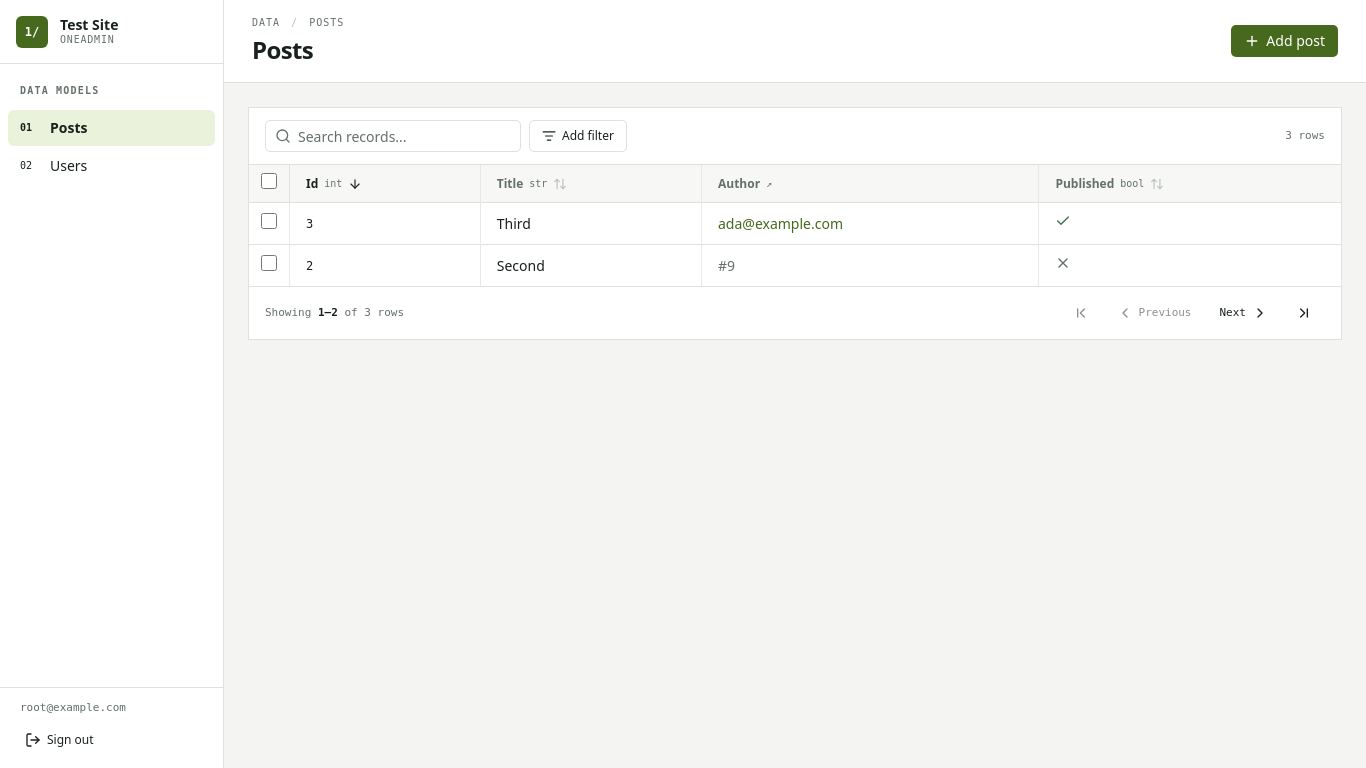
Test: list › pages with cursors and doesn't recount on later pages
This screenshot has width=1366, height=768.
Expected: the text "Third" is shown, x1=497 y1=214 x2=531 y2=233
Expected: the element with test id "page-range" reads "Showing 1–2 of 3 rows", x1=265 y1=305 x2=404 y2=321
Click the link with aria-label "Next page" at (1244, 313), box x1=1220 y1=305 x2=1268 y2=321
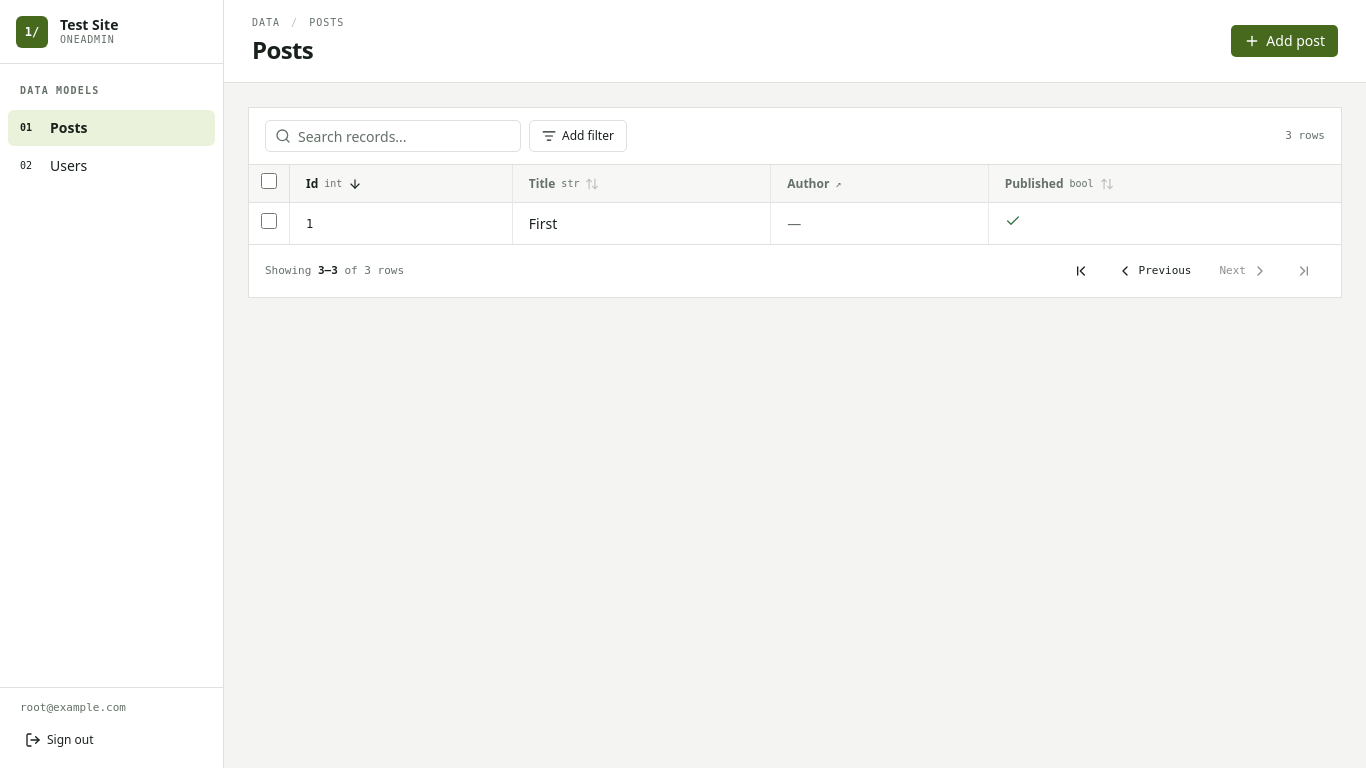
Expected: the text "3 rows" is shown, x1=1285 y1=128 x2=1325 y2=144
Expected: the text "First" is shown, x1=529 y1=214 x2=557 y2=233
Expected: the element with test id "page-range" reads "Showing 3–3 of 3 rows", x1=265 y1=263 x2=404 y2=279
